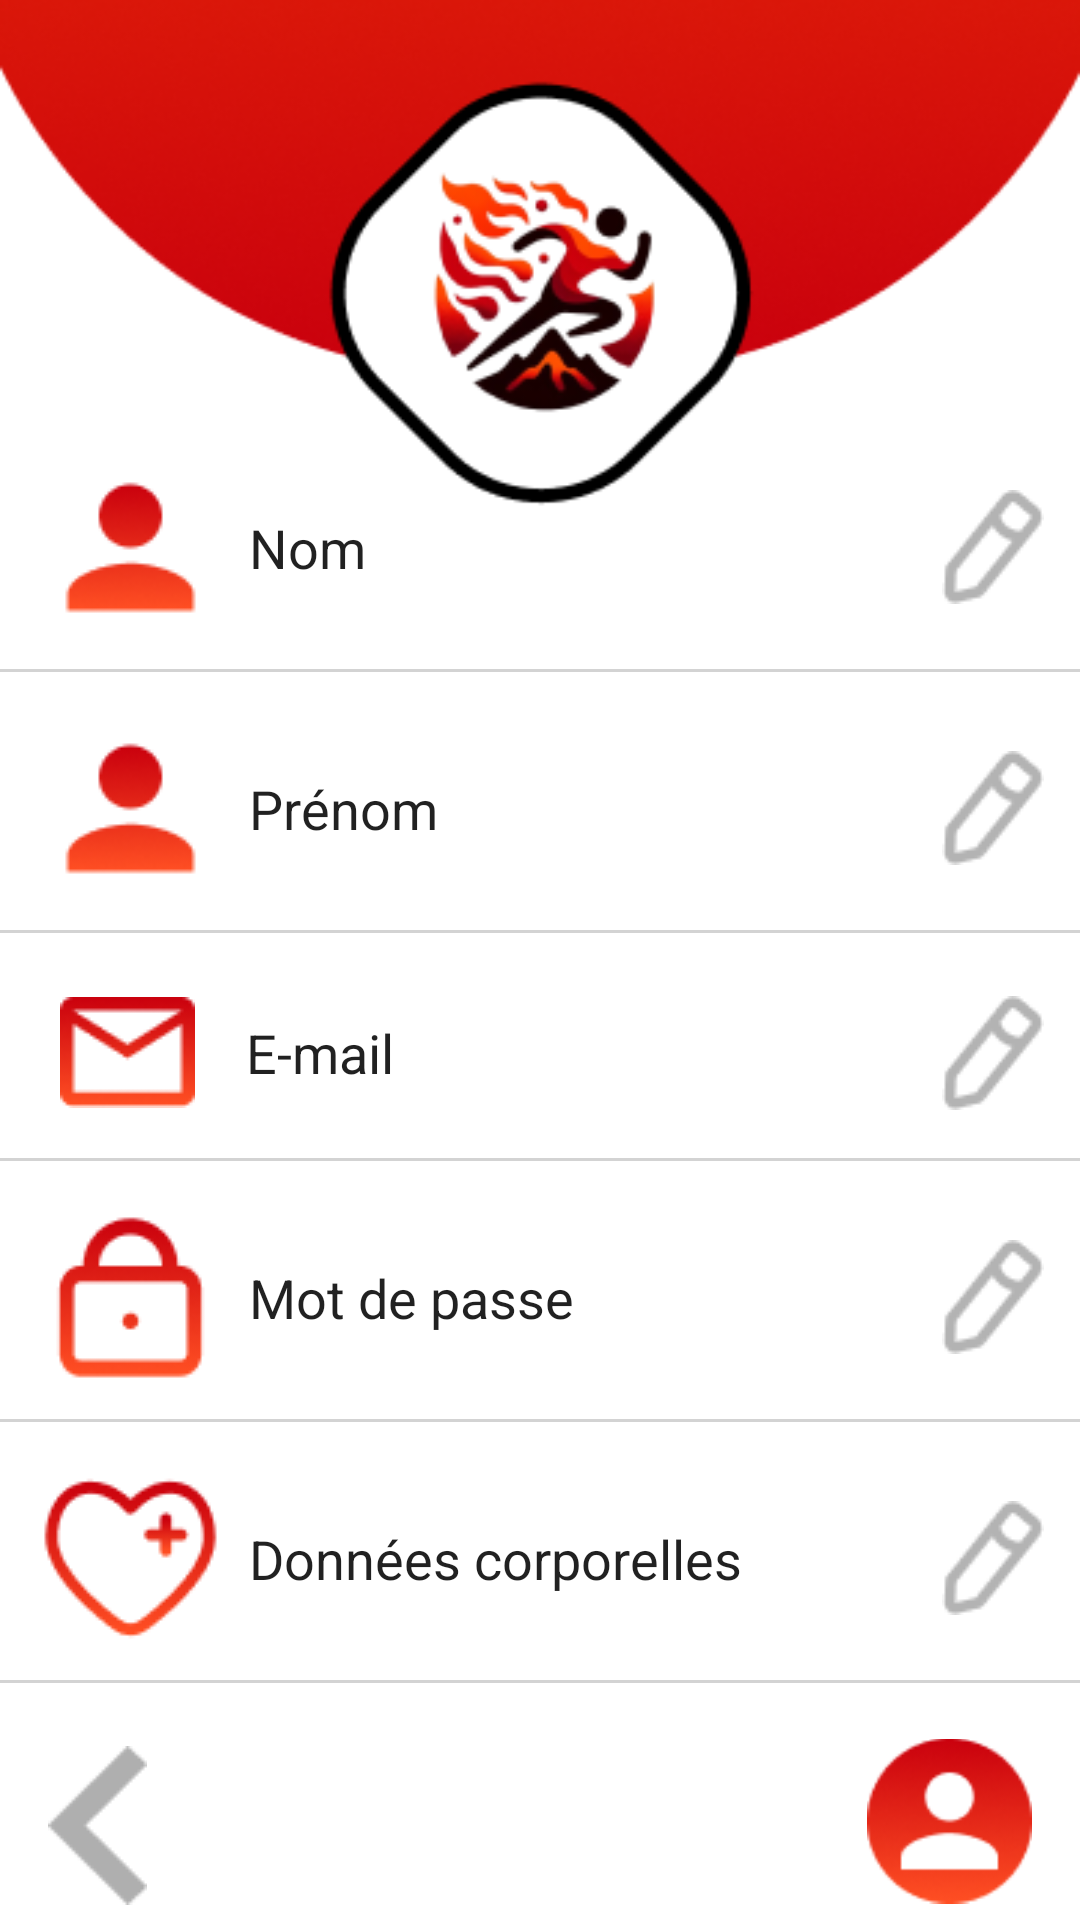

Where icons sit on this 1080px x 1920px app screen, as (x1, y1, x2, y2):
chevron left: (48, 1746, 147, 1905)
profil: (867, 1739, 1032, 1904)
